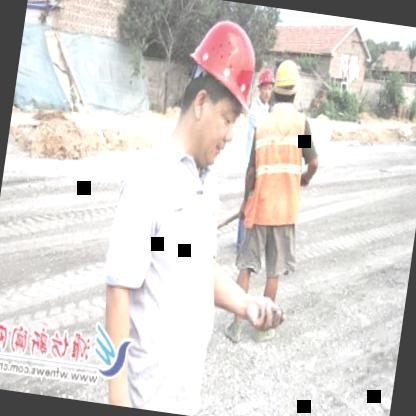helmet: (169, 13, 263, 170), (268, 54, 303, 108), (256, 64, 278, 102)
